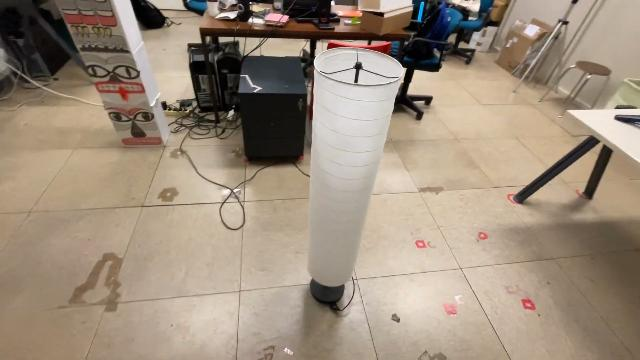Lamp: (301, 42, 407, 316)
Stool: (534, 57, 616, 119)
